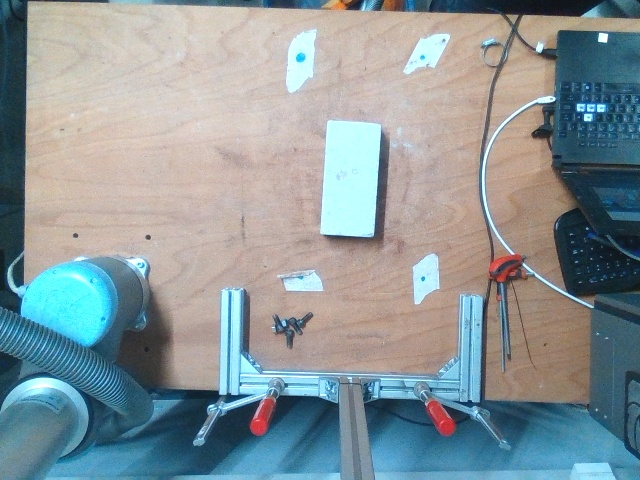brick: (321, 121, 382, 235)
